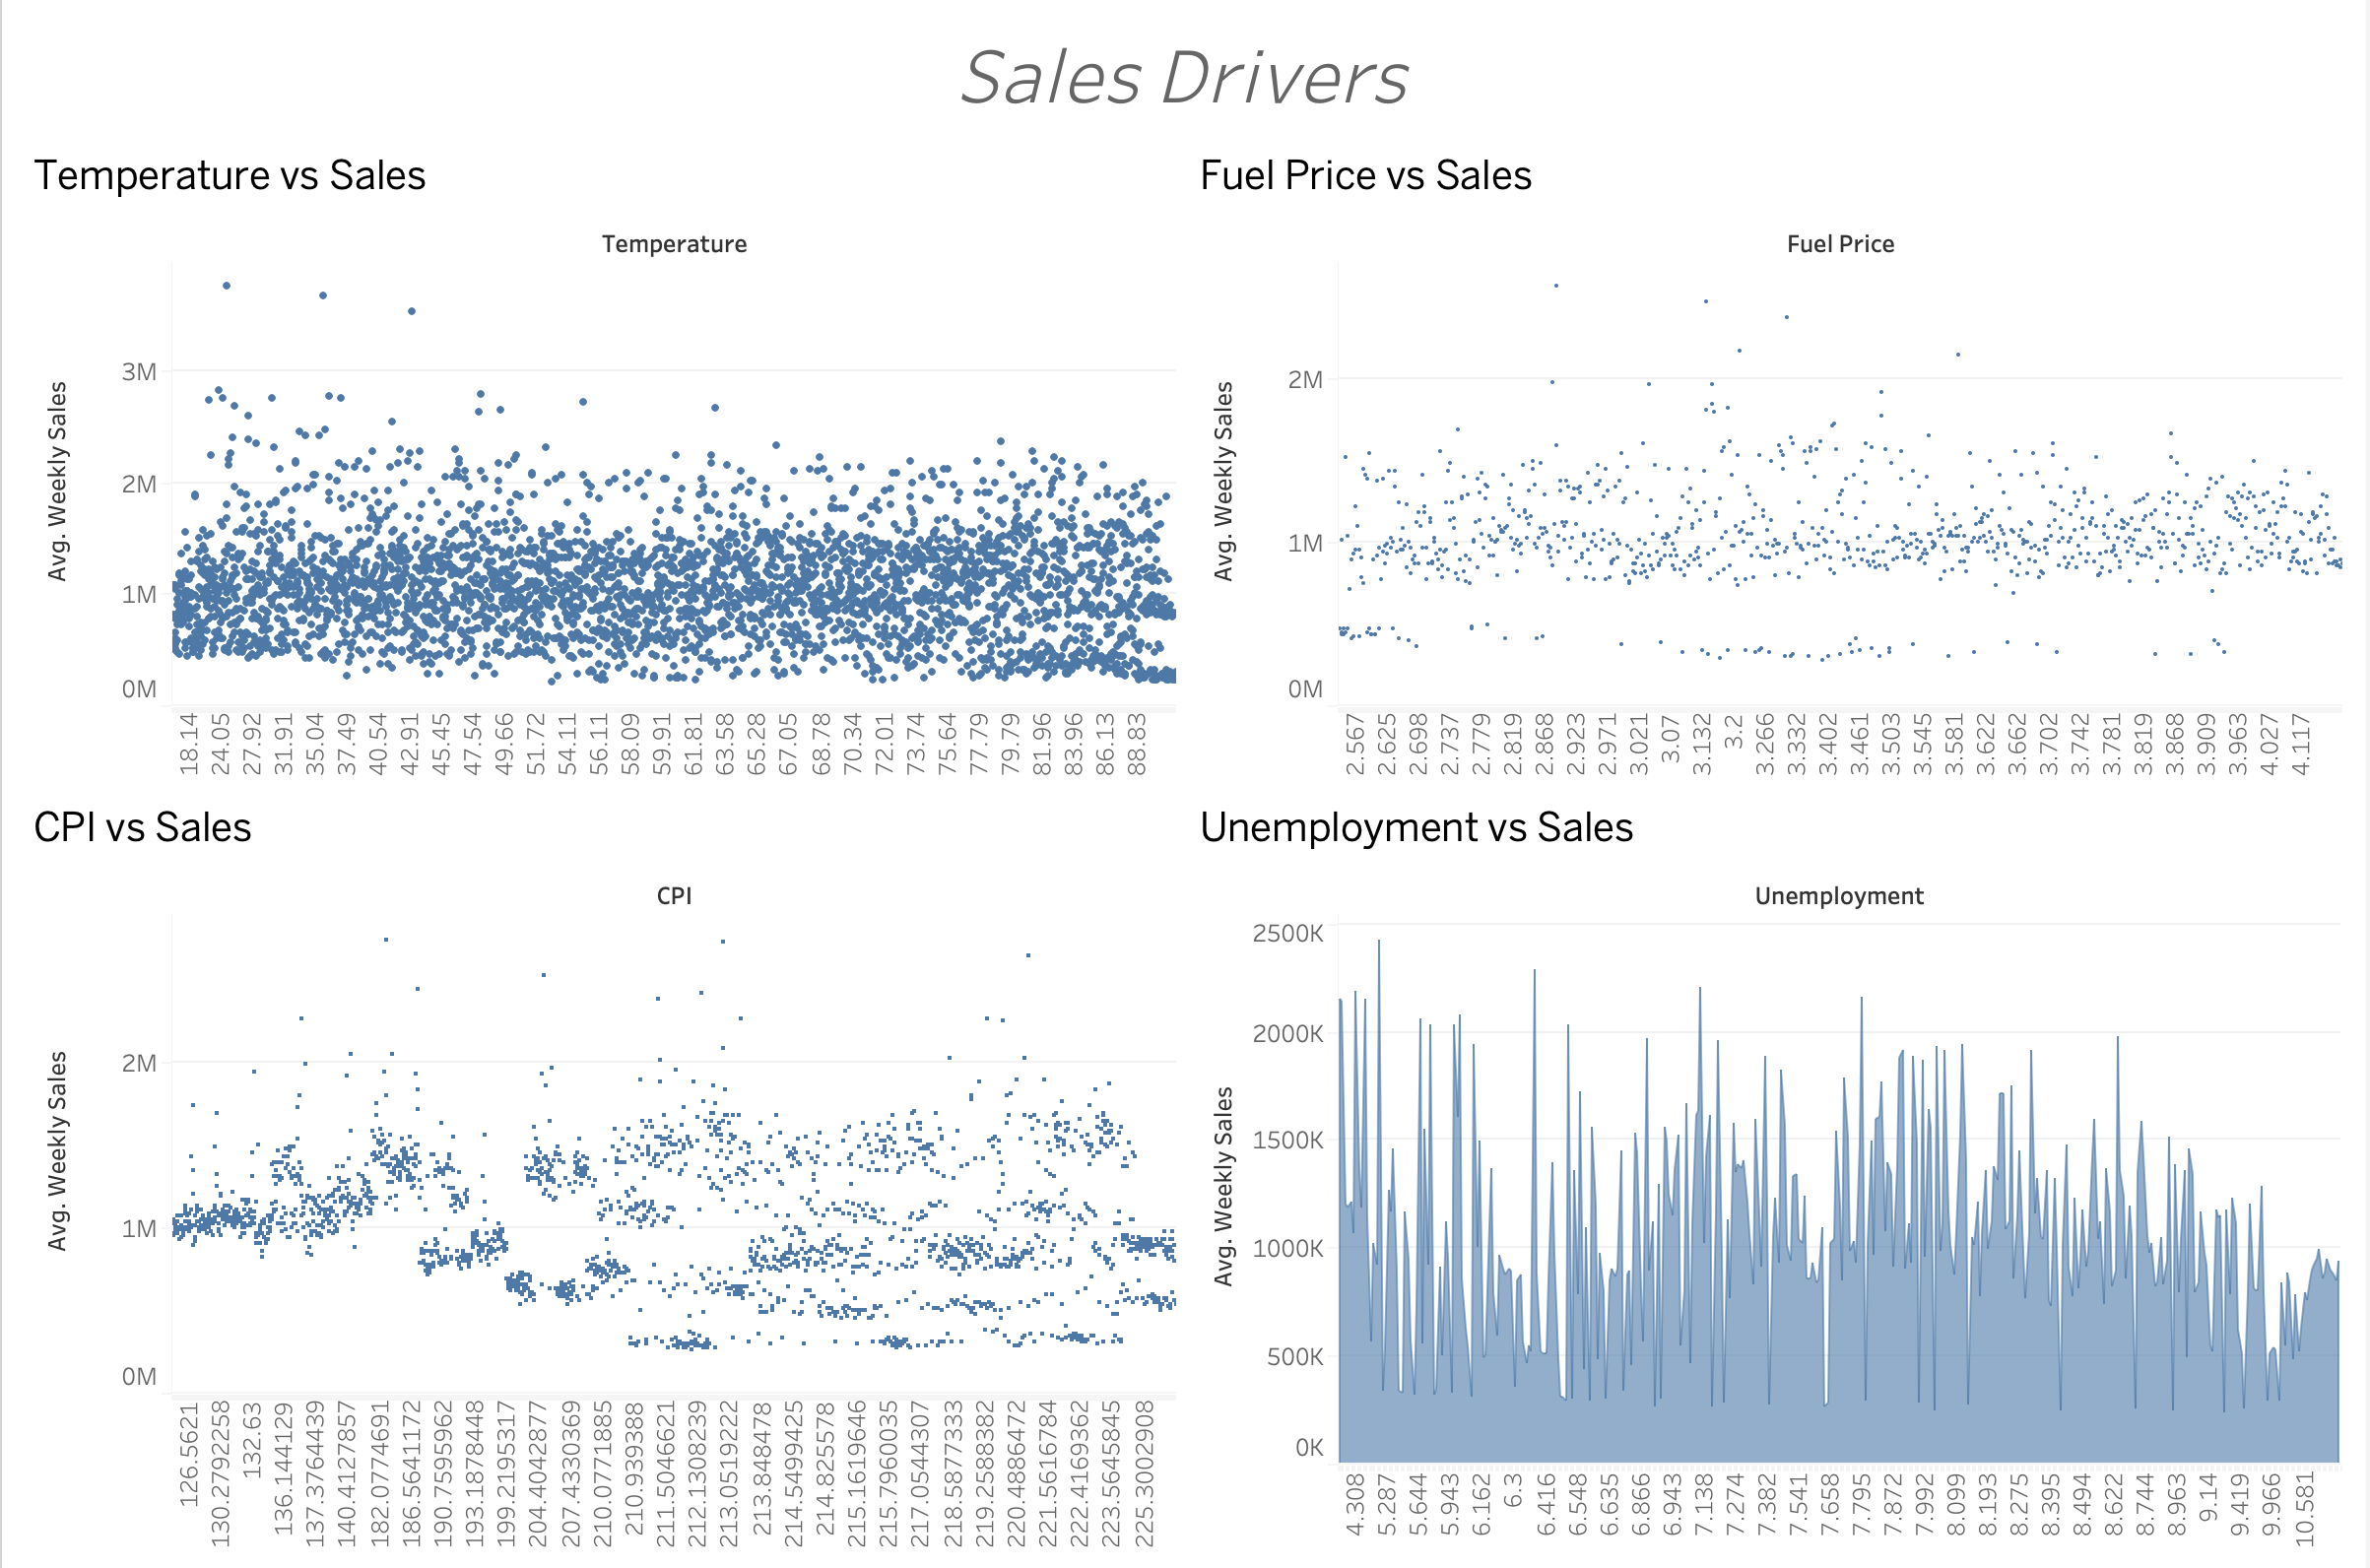

The page's visual inventory and layout, read from the dashboard file:
{"tool":"tableau","page":{"name":"Sales Drivers","canvas":[1200,800],"ordinal":0},"visuals":[{"type":"text","box":[8,8,1184,61]},{"type":"worksheet","title":"Sheet 13","mark":"Shape","rows":["Weekly_Sales"],"cols":["Temperature"],"box":[8,69,592,331]},{"type":"worksheet","title":"Sheet 14","mark":"Circle","rows":["Weekly_Sales"],"cols":["Fuel_Price"],"box":[600,69,592,331]},{"type":"worksheet","title":"Sheet 15","mark":"Square","rows":["Weekly_Sales"],"cols":["CPI"],"box":[8,400,592,392]},{"type":"worksheet","title":"Sheet 16","mark":"Area","rows":["Weekly_Sales"],"cols":["Unemployment"],"box":[600,400,592,392]}]}

Visuals, with their boxes in screenshot pixels (x1, y1, x2, y2), scaled from the page's 1200x800 canvas onto the 2370x1568 screenshot:
text: 16/16/2354/135
"Sheet 13" worksheet (Shape marks): 16/135/1185/784
"Sheet 14" worksheet (Circle marks): 1185/135/2354/784
"Sheet 15" worksheet (Square marks): 16/784/1185/1552
"Sheet 16" worksheet (Area marks): 1185/784/2354/1552
